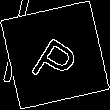P_NE: (26, 24, 84, 86)
